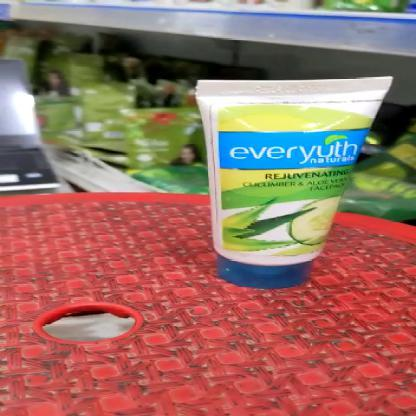EY RJ CUCUMBER ALOEVERA FACEPAK50G: (204, 76, 392, 289)
